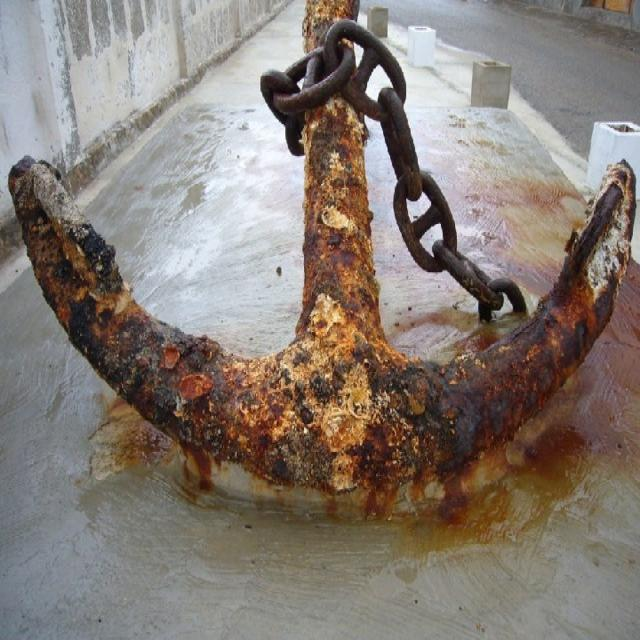Uniform Corrosion: (8, 0, 634, 503)
